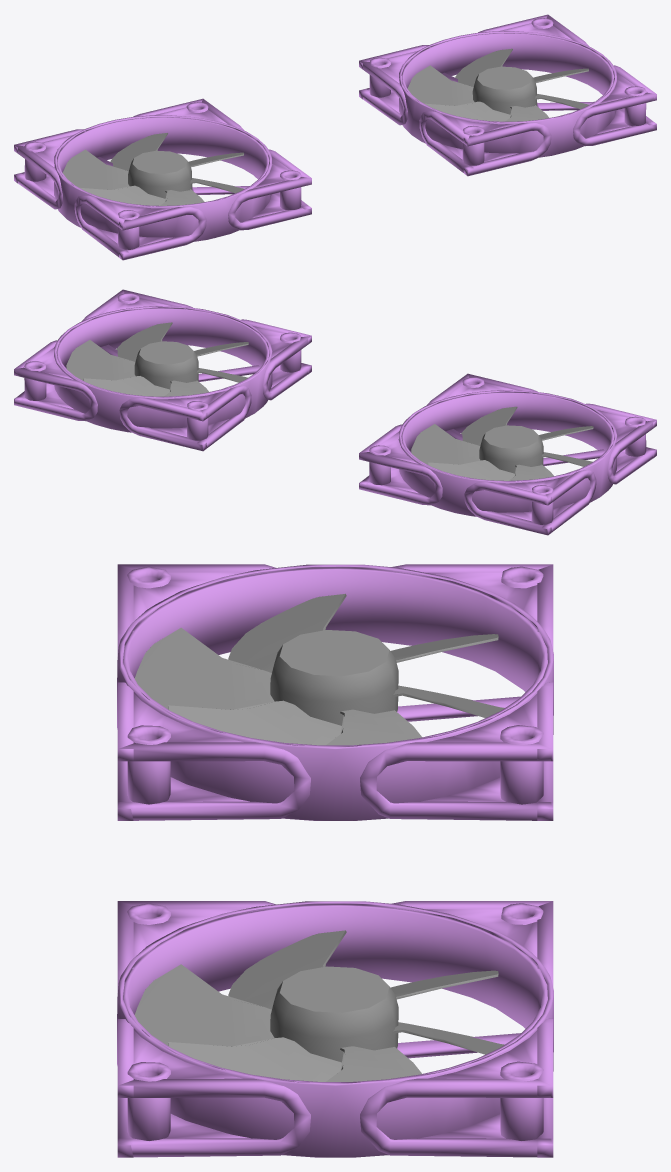
3 renders of one model, top to bottom at view 1: azimuth 30°, elevation 25°; view 2: azimuth 150°, elevation 25°; view 3: azimuth 270°, elevation 25°, orthographic. The views are drawn at different scales.
Parts seen in each view (by area): view 1: fan_body, fan_body001, fan_blades1, fan_blades; view 2: fan_body001, fan_body, fan_blades1, fan_blades; view 3: fan_body, fan_body001, fan_blades, fan_blades1.
Boxes of the visible parts, x1,y1,x2,y2 form: fan_body: [14, 98, 311, 260]; fan_body001: [359, 14, 656, 176]; fan_blades1: [407, 48, 589, 121]; fan_blades: [62, 133, 243, 205]; fan_body001: [14, 289, 311, 451]; fan_body: [359, 373, 656, 535]; fan_blades1: [66, 322, 248, 396]; fan_blades: [411, 406, 593, 480]; fan_body: [117, 564, 553, 820]; fan_body001: [117, 901, 553, 1157]; fan_blades: [134, 593, 504, 745]; fan_blades1: [134, 930, 504, 1081].
Bounding box in the file's own units: 7.33 × 0.4943 × 2.6.
